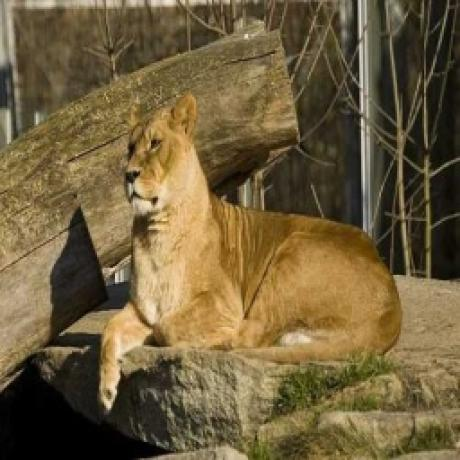Lion: (99, 97, 408, 410)
